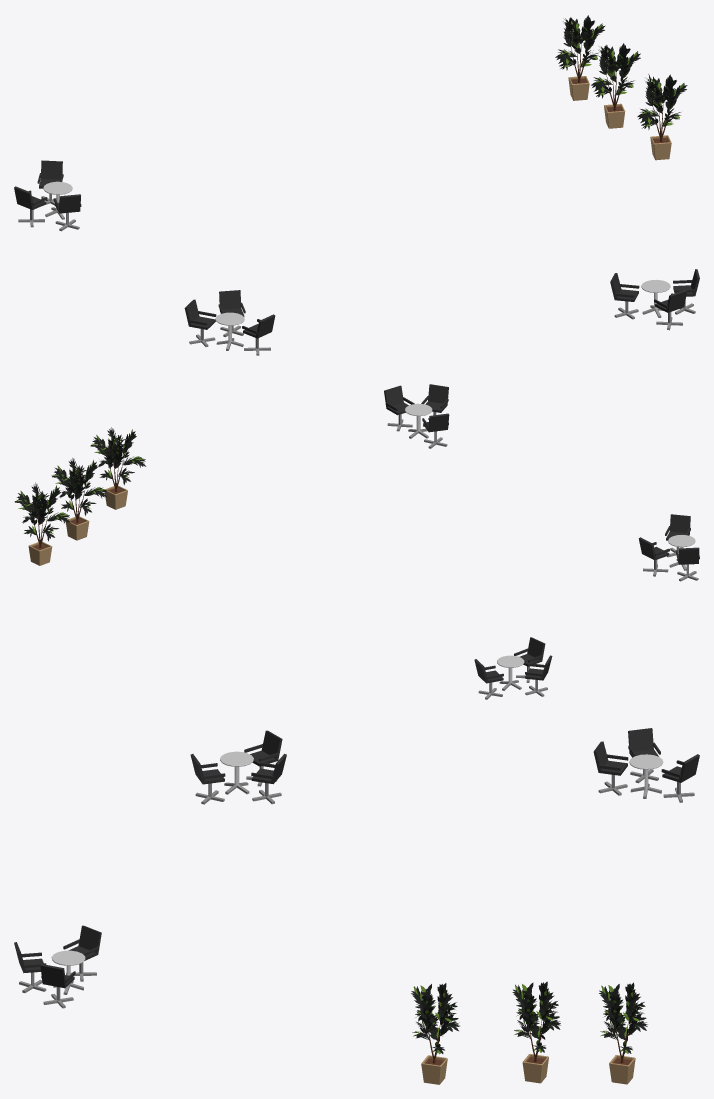
The picture shows the model from 3 angles, top to bottom: view 1: azimuth 30°, elevation 25°; view 2: azimuth 150°, elevation 25°; view 3: azimuth 270°, elevation 25°; orthographic projection. The views are drawn at different scales.
Visible parts, largest first — view 1: d-roomcomp-t-server; view 2: d-roomcomp-t-server; view 3: d-roomcomp-t-server.
Boxes of the visible parts, x1=… form: d-roomcomp-t-server: x1=14, y1=15, x2=699, y2=355; d-roomcomp-t-server: x1=14, y1=384, x2=699, y2=699; d-roomcomp-t-server: x1=14, y1=728, x2=699, y2=1084.
Bounding box in the file's own units: 22.98 × 3.09 × 20.41.
Materials: 1 (1 with a texture image).
